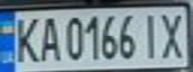0: (63, 12, 84, 61)
1: (81, 11, 103, 61)
6: (115, 11, 142, 61), (100, 11, 121, 61)
A: (33, 12, 60, 63), (178, 8, 193, 60)
I: (139, 10, 163, 61)
K: (9, 12, 42, 64)
